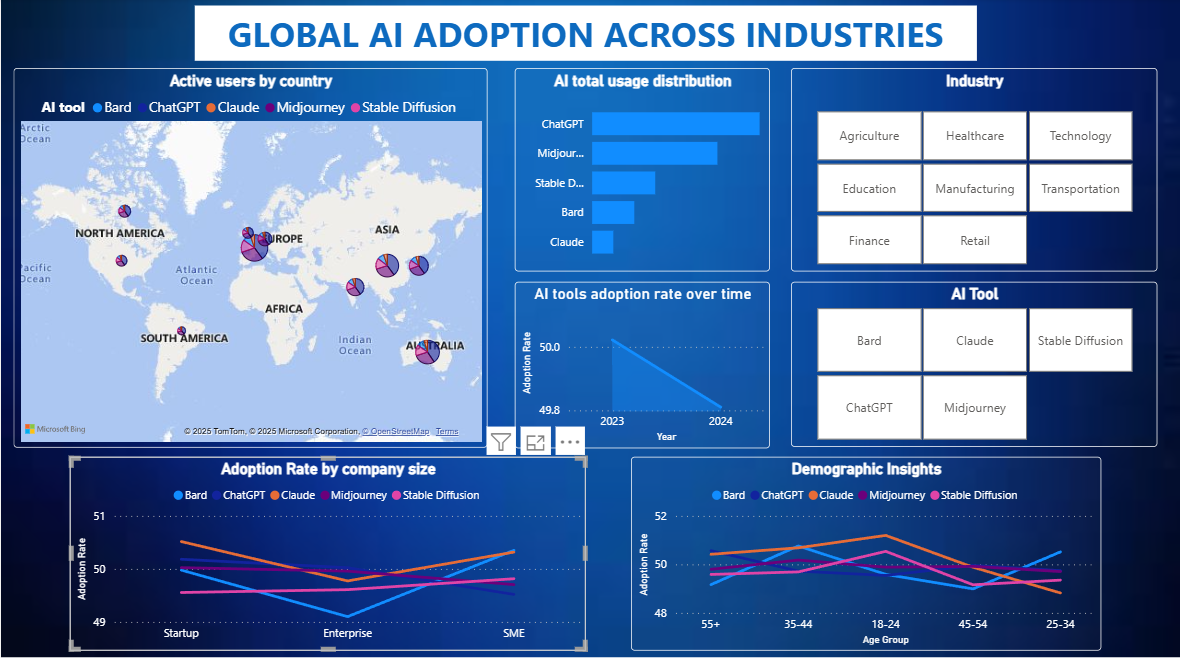

The page's visual inventory and layout, read from the dashboard file:
{"tool":"powerbi","page":{"name":"Page 1","canvas":[1280,720],"ordinal":0},"visuals":[{"type":"map","title":"Active users by country","fields":{"Category":["AI adoption dataset.country"],"Size":["Sum(AI adoption dataset.daily_active_users)"],"Series":["AI adoption dataset.ai_tool"]},"box":[13.6,76,514.1,412.4],"z":0},{"type":"slicer","title":"Industry","fields":{"Values":["AI adoption dataset.industry"]},"box":[857.3,76,397.5,221.1],"z":1000},{"type":"areaChart","title":"AI tools adoption rate over time","fields":{"Category":["AI adoption dataset.year"],"Y":["Avg(AI adoption dataset.adoption_rate)"]},"box":[557.5,307.9,276.7,180.4],"z":2000},{"type":"slicer","title":"AI Tool","fields":{"Values":["AI adoption dataset.ai_tool"]},"box":[857.3,307.9,397.5,179.1],"z":3000},{"type":"barChart","title":"AI total usage distribution","fields":{"Category":["AI adoption dataset.ai_tool"],"Y":["Sum(AI adoption dataset.daily_active_users)"]},"box":[557.5,76,276.7,221.1],"z":4000},{"type":"lineChart","title":"Demographic Insights","fields":{"Y":["Avg(AI adoption dataset.adoption_rate)"],"Category":["AI adoption dataset.age_group"],"Series":["AI adoption dataset.ai_tool"]},"box":[683.7,497.8,510.1,210.3],"z":5000},{"type":"lineChart","title":"Adoption Rate by company size","fields":{"Category":["AI adoption dataset.company_size"],"Series":["AI adoption dataset.ai_tool"],"Y":["Avg(AI adoption dataset.adoption_rate)"]},"box":[74.6,497.8,560.2,210.3],"z":6000},{"type":"textbox","box":[210.3,8.1,849.2,59.7],"z":7000}]}

Visuals, with their boxes in screenshot pixels (x1, y1, x2, y2), scaled from the page's 1280x720 canvas onto the 1180x658 screenshot:
"Active users by country" map: (x1=13, y1=69, x2=486, y2=446)
"Industry" slicer: (x1=790, y1=69, x2=1157, y2=272)
"AI tools adoption rate over time" areaChart: (x1=514, y1=281, x2=769, y2=446)
"AI Tool" slicer: (x1=790, y1=281, x2=1157, y2=445)
"AI total usage distribution" barChart: (x1=514, y1=69, x2=769, y2=272)
"Demographic Insights" lineChart: (x1=630, y1=455, x2=1101, y2=647)
"Adoption Rate by company size" lineChart: (x1=69, y1=455, x2=585, y2=647)
textbox: (x1=194, y1=7, x2=977, y2=62)
